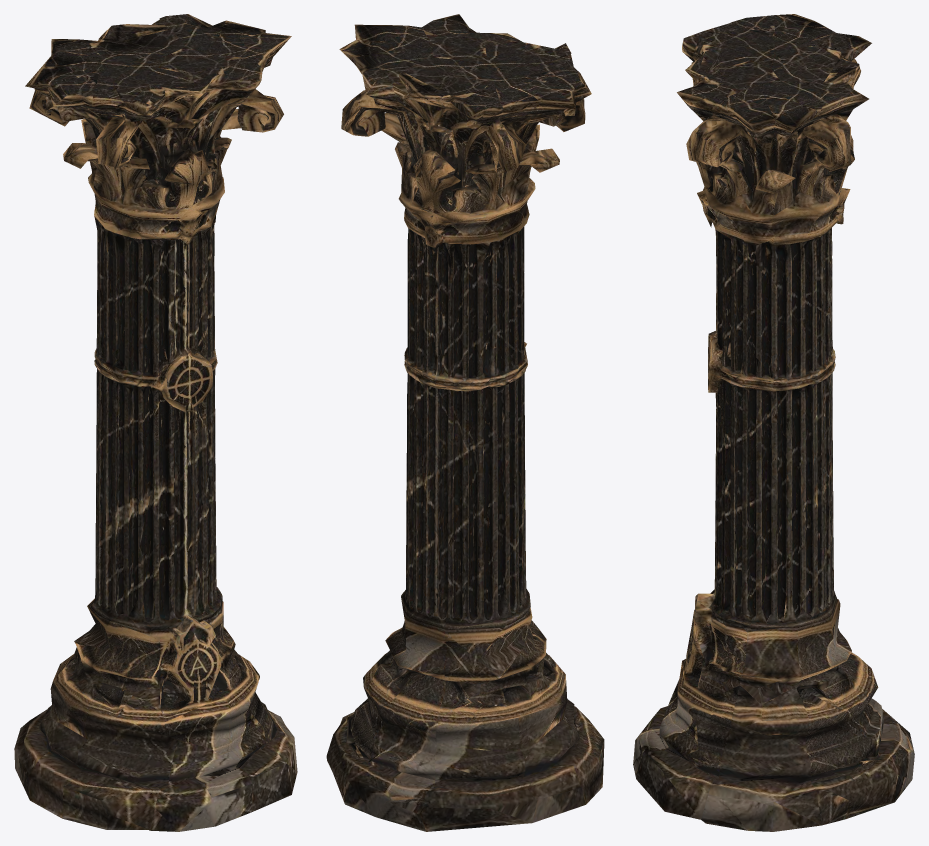
The model's file is column.glb.
The picture shows the model from 3 angles, left to right: view 1: azimuth 30°, elevation 25°; view 2: azimuth 150°, elevation 25°; view 3: azimuth 270°, elevation 25°; orthographic projection.
Size of the model in its own units: 0.6872 by 1.9 by 0.6842.
Materials: 1 (1 with a texture image).
